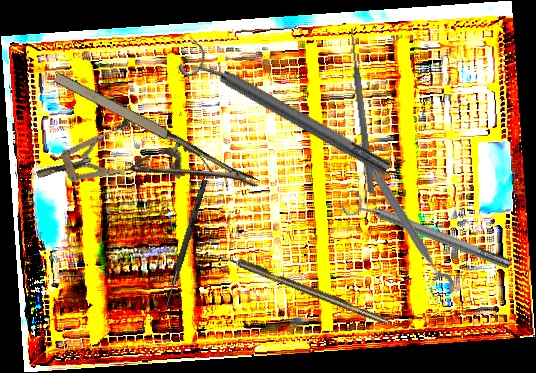Fixation Ring: (176, 38, 396, 187), (344, 143, 459, 304), (339, 186, 515, 279)
Hook Surgical: (211, 247, 390, 327), (163, 178, 208, 311)
Needle Holder: (34, 66, 261, 229)
Pusher: (346, 26, 377, 194)
Speculum: (29, 114, 155, 198)
